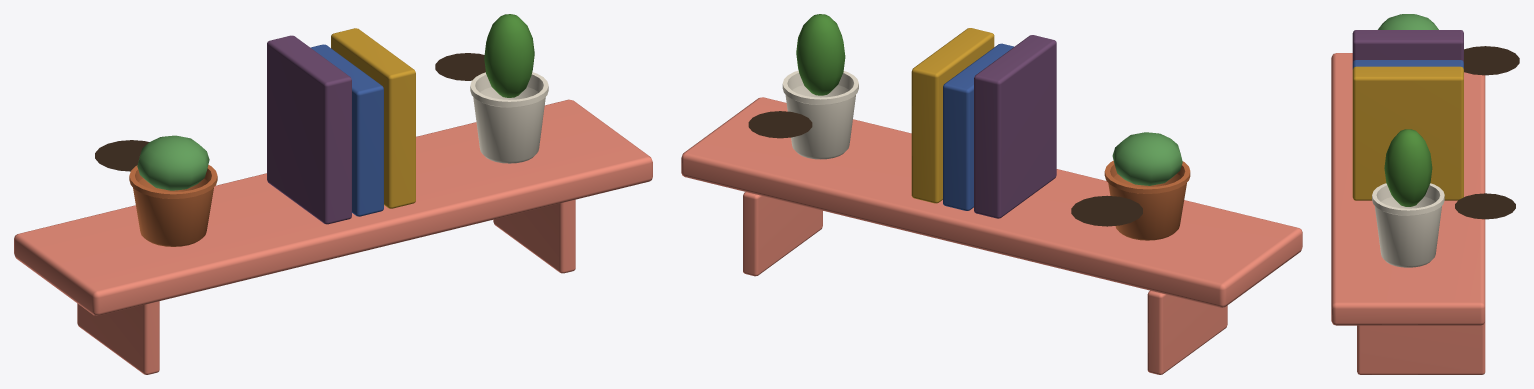
File: wall_shelf.glb
3 renders of one model, left to right at view 1: azimuth 30°, elevation 25°; view 2: azimuth 150°, elevation 25°; view 3: azimuth 270°, elevation 25°, orthographic. The views are drawn at different scales.
Visible parts, largest first — view 1: model; view 2: model; view 3: model.
Part boxes in pixels (<box>): model: <box>14,14,652,374</box>; model: <box>681,14,1302,374</box>; model: <box>1331,14,1519,374</box>.
Bounding box in the file's own units: 0.7 × 0.3 × 0.2199.
